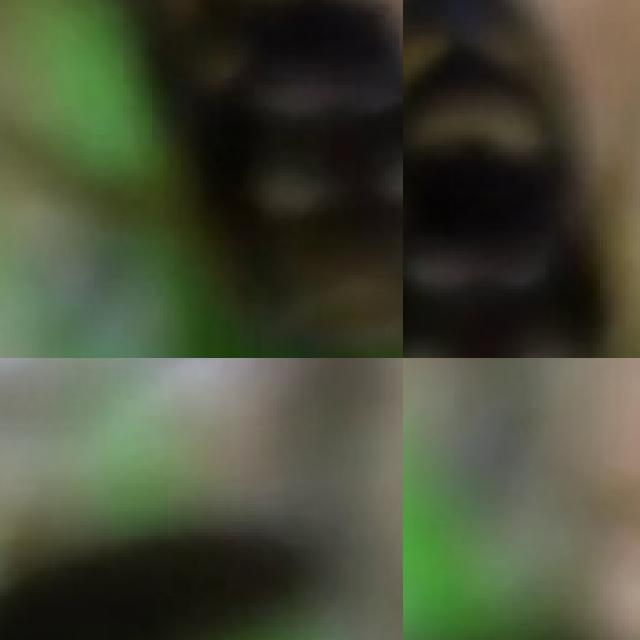fish: (0, 0, 403, 358), (403, 0, 640, 358), (0, 461, 328, 640)
